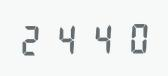four: (51, 20, 83, 56), (84, 19, 116, 55)
two: (18, 21, 50, 56)
zero: (117, 19, 149, 54)
